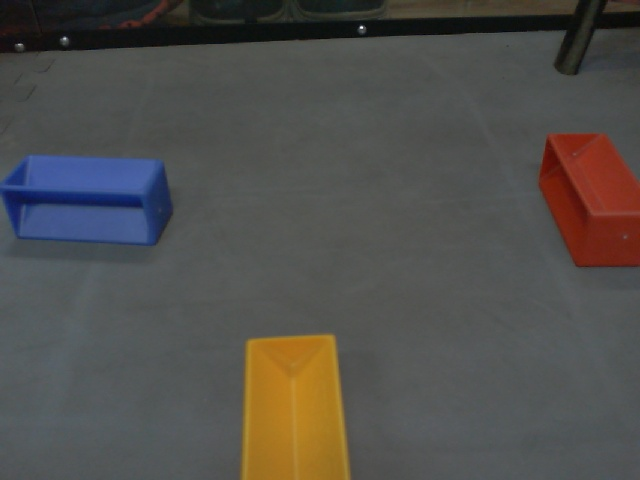BlueSample: (1, 156, 172, 246)
RedSample: (536, 131, 640, 267)
YellowSample: (237, 328, 354, 480)
